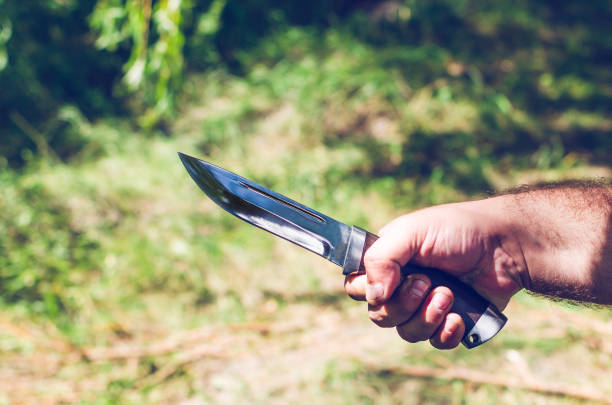knife: (174, 149, 512, 352)
